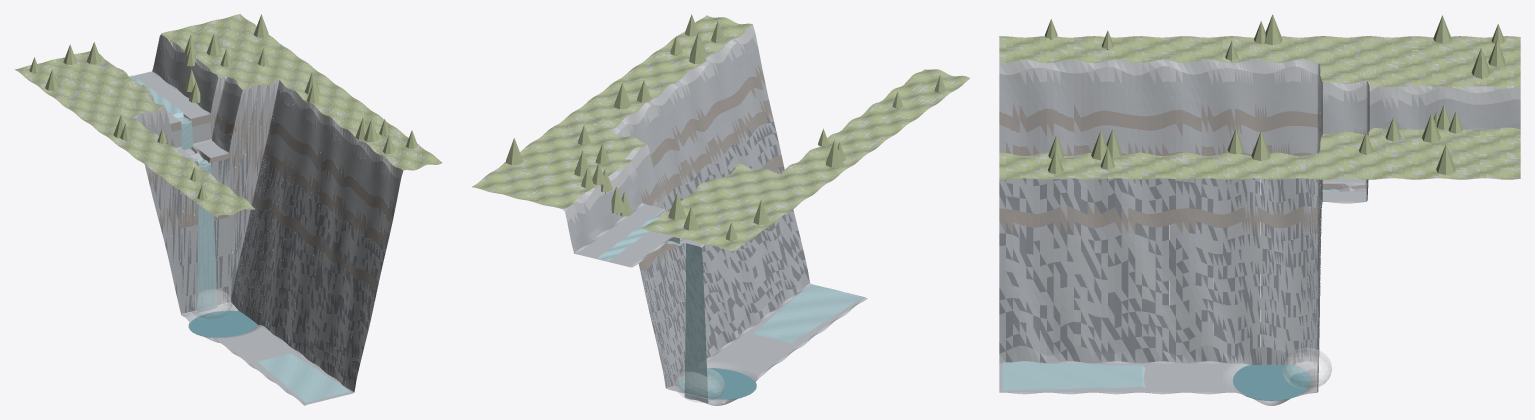
The model's file is gveleti.glb.
The picture shows the model from 3 angles, left to right: view 1: azimuth 30°, elevation 25°; view 2: azimuth 150°, elevation 25°; view 3: azimuth 270°, elevation 25°; orthographic projection. The views are drawn at different scales.
Parts seen in each view (by area): view 1: gveleti_rock, gveleti_veg, gveleti_rockDark, gveleti_soft, gveleti_water, gveleti_cap, gveleti_waterPool, gveleti_mist; view 2: gveleti_rock, gveleti_veg, gveleti_rockDark, gveleti_water, gveleti_soft, gveleti_cap, gveleti_waterPool, gveleti_mist; view 3: gveleti_rock, gveleti_veg, gveleti_rockDark, gveleti_soft, gveleti_cap, gveleti_water, gveleti_waterPool, gveleti_mist.
Boxes of the visible parts, x1,y1,x2,y2 form: gveleti_rock: [17, 15, 439, 405]; gveleti_veg: [14, 14, 442, 216]; gveleti_rockDark: [154, 134, 385, 391]; gveleti_soft: [148, 100, 394, 293]; gveleti_water: [128, 75, 350, 402]; gveleti_cap: [132, 35, 403, 188]; gveleti_waterPool: [188, 310, 257, 337]; gveleti_mist: [188, 289, 231, 319]; gveleti_rock: [474, 16, 963, 405]; gveleti_veg: [472, 14, 970, 251]; gveleti_rockDark: [641, 113, 809, 387]; gveleti_water: [597, 211, 863, 403]; gveleti_soft: [639, 65, 783, 270]; gveleti_cap: [565, 24, 757, 223]; gveleti_waterPool: [675, 368, 756, 399]; gveleti_mist: [674, 367, 724, 402]; gveleti_rock: [999, 36, 1520, 405]; gveleti_veg: [999, 14, 1520, 179]; gveleti_rockDark: [999, 178, 1321, 381]; gveleti_soft: [999, 104, 1368, 273]; gveleti_cap: [999, 59, 1520, 135]; gveleti_water: [1002, 180, 1366, 390]; gveleti_waterPool: [1233, 364, 1310, 400]; gveleti_mist: [1282, 348, 1331, 388].
Size of the model in its own units: 20 by 21.37 by 31.
